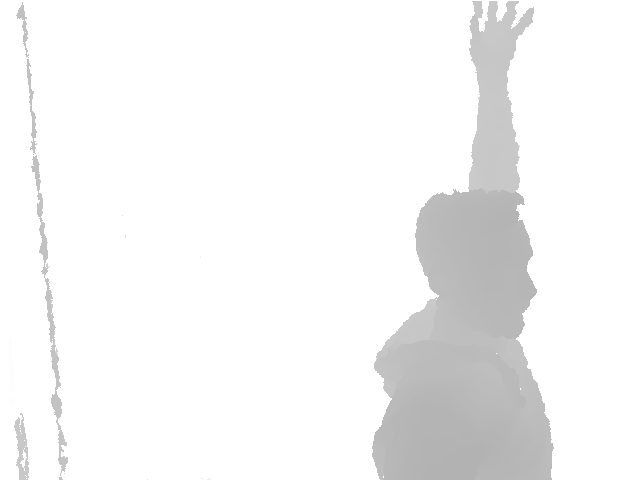hand: (468, 1, 535, 76)
head: (415, 189, 537, 343)
person: (371, 1, 555, 480)
